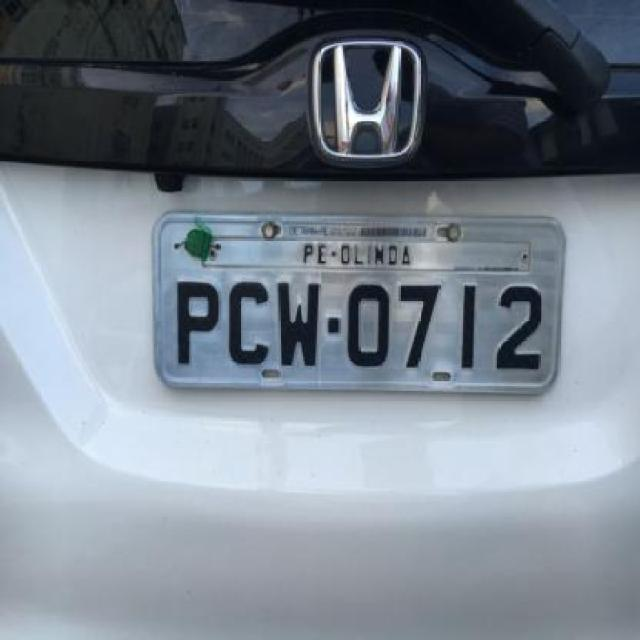old_plate: (142, 204, 575, 401)
